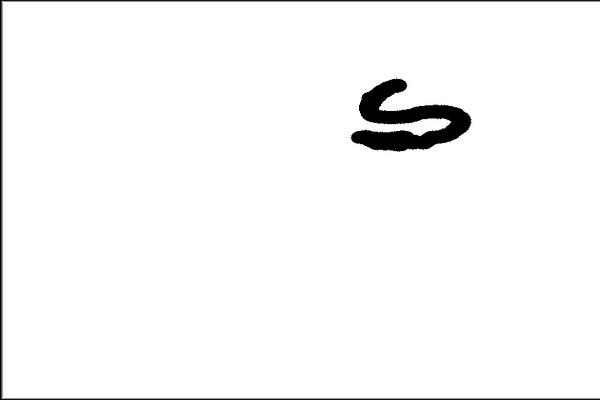S: (342, 71, 478, 156)
